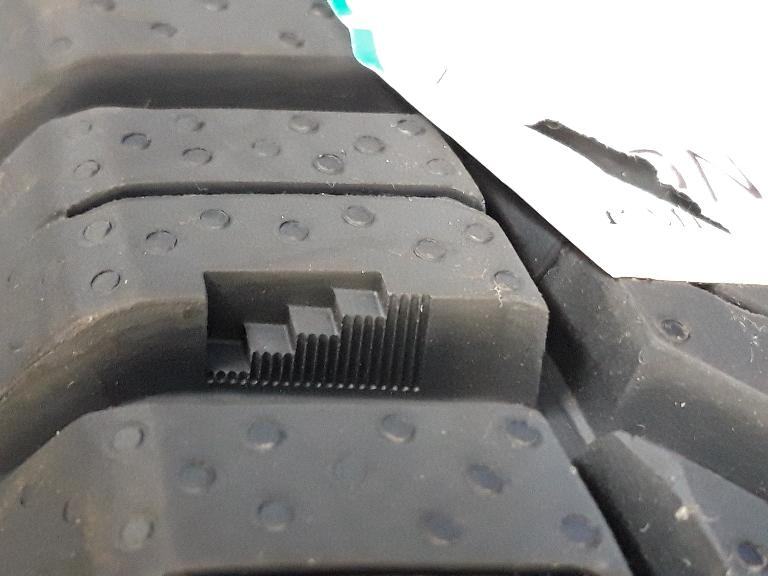temoin:100: (192, 259, 440, 406)
